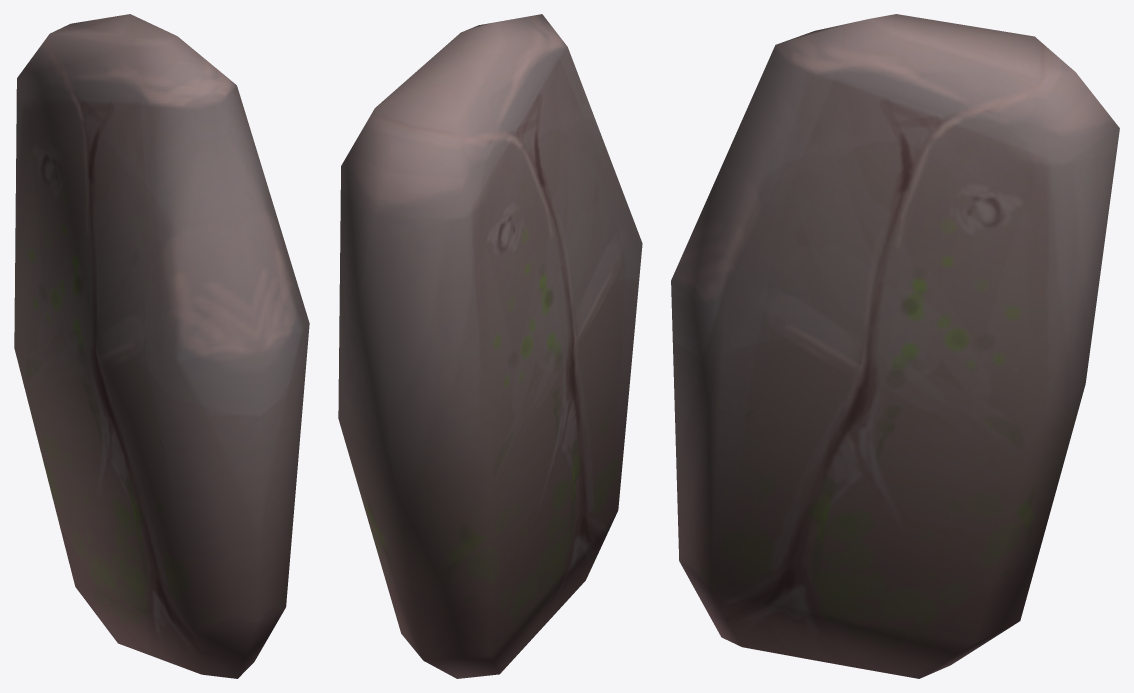
File: Rock03.FBX
The picture shows the model from 3 angles, left to right: view 1: azimuth 30°, elevation 25°; view 2: azimuth 150°, elevation 25°; view 3: azimuth 270°, elevation 25°; orthographic projection. The views are drawn at different scales.
Visible parts, largest first — view 1: Rock03; view 2: Rock03; view 3: Rock03.
Part boxes in pixels (x1=…): Rock03: x1=14, y1=14, x2=309, y2=678; Rock03: x1=338, y1=14, x2=642, y2=678; Rock03: x1=671, y1=14, x2=1119, y2=678.
Bounding box in the file's own units: 32.66 × 130 × 81.42.
